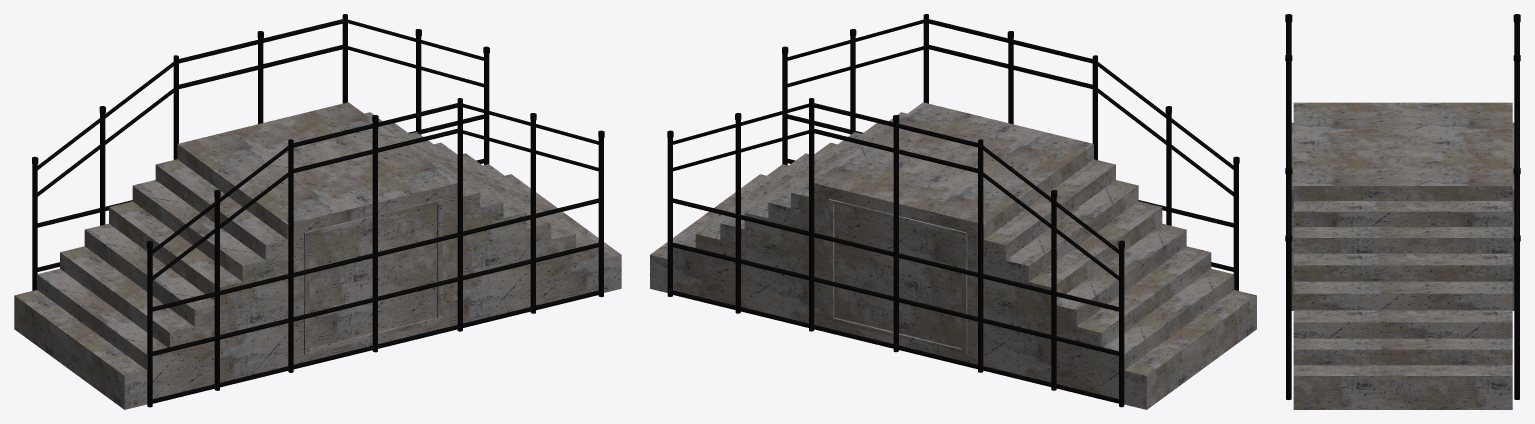
File: objStairs.obj
The picture shows the model from 3 angles, left to right: view 1: azimuth 30°, elevation 25°; view 2: azimuth 150°, elevation 25°; view 3: azimuth 270°, elevation 25°; orthographic projection.
Parts seen in each view (by area): view 1: stairs2, fence, fence1; view 2: stairs2, fence1, fence; view 3: stairs2, fence, fence1.
Part boxes in pixels (x1,y1,x2,y2): stairs2: (14, 102, 621, 409); fence: (146, 98, 604, 407); fence1: (32, 14, 489, 290); stairs2: (650, 102, 1256, 409); fence1: (667, 98, 1124, 407); fence: (782, 14, 1239, 290); stairs2: (1291, 102, 1514, 409); fence: (1285, 14, 1292, 399); fence1: (1513, 14, 1520, 399).
Size of the model in its own units: 8.31 by 3.75 by 3.42.
Materials: 2 (1 with a texture image).
